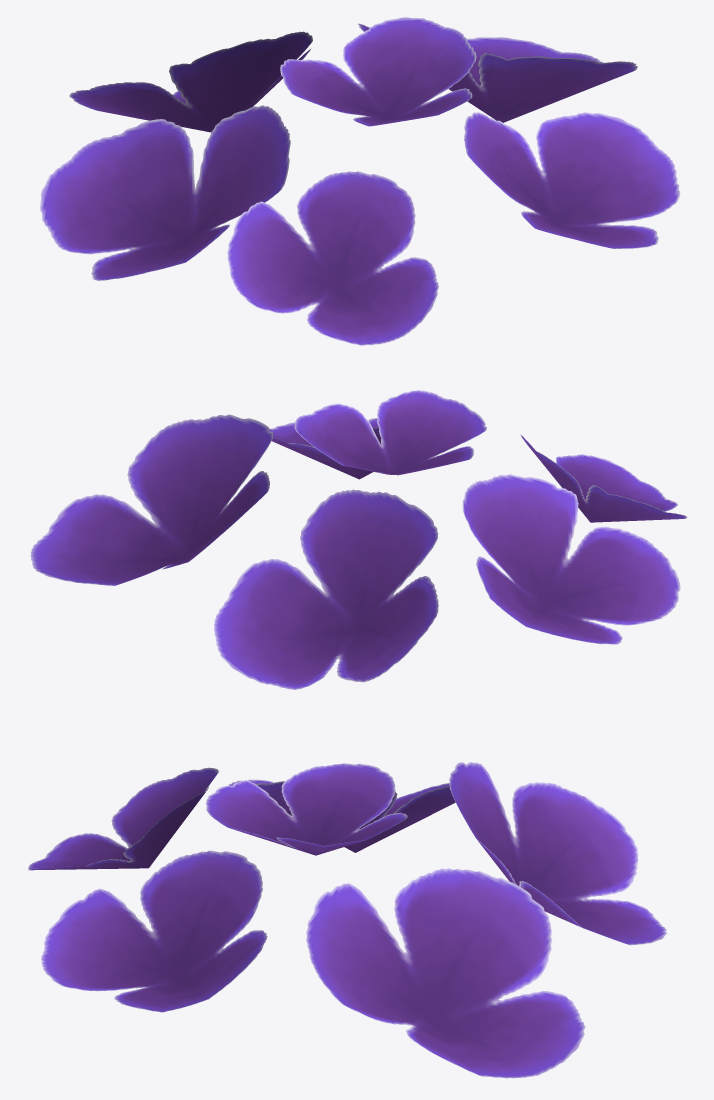
The model's file is Plant_7.glb.
3 renders of one model, top to bottom at view 1: azimuth 30°, elevation 25°; view 2: azimuth 150°, elevation 25°; view 3: azimuth 270°, elevation 25°, orthographic. The views are drawn at different scales.
Parts seen in each view (by area): view 1: Plant_7; view 2: Plant_7; view 3: Plant_7.
Part boxes in pixels (x1,y1,x2,y2): Plant_7: [40, 17, 680, 345]; Plant_7: [30, 390, 687, 689]; Plant_7: [28, 762, 666, 1078].
Bounding box in the file's own units: 1.05 × 0.2495 × 0.9621.
Materials: 1 (1 with a texture image).
